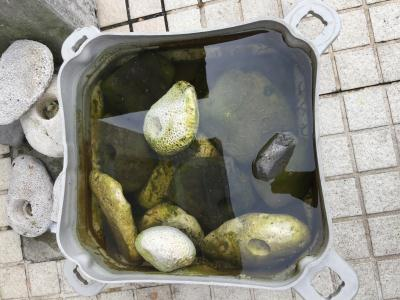box: (50, 16, 332, 293)
